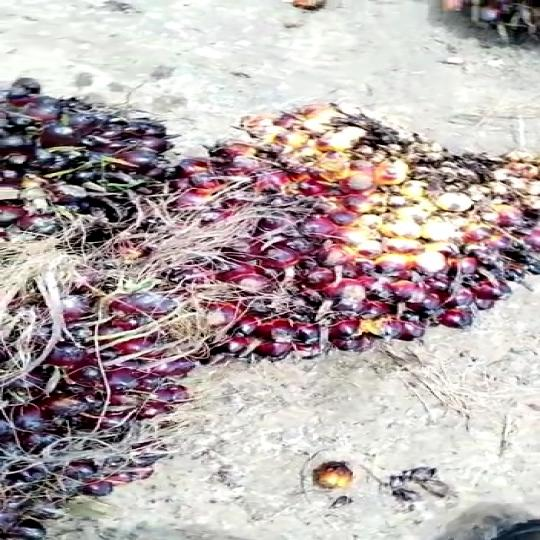kurang masak: (154, 101, 540, 381), (0, 268, 178, 481), (0, 78, 176, 259)
